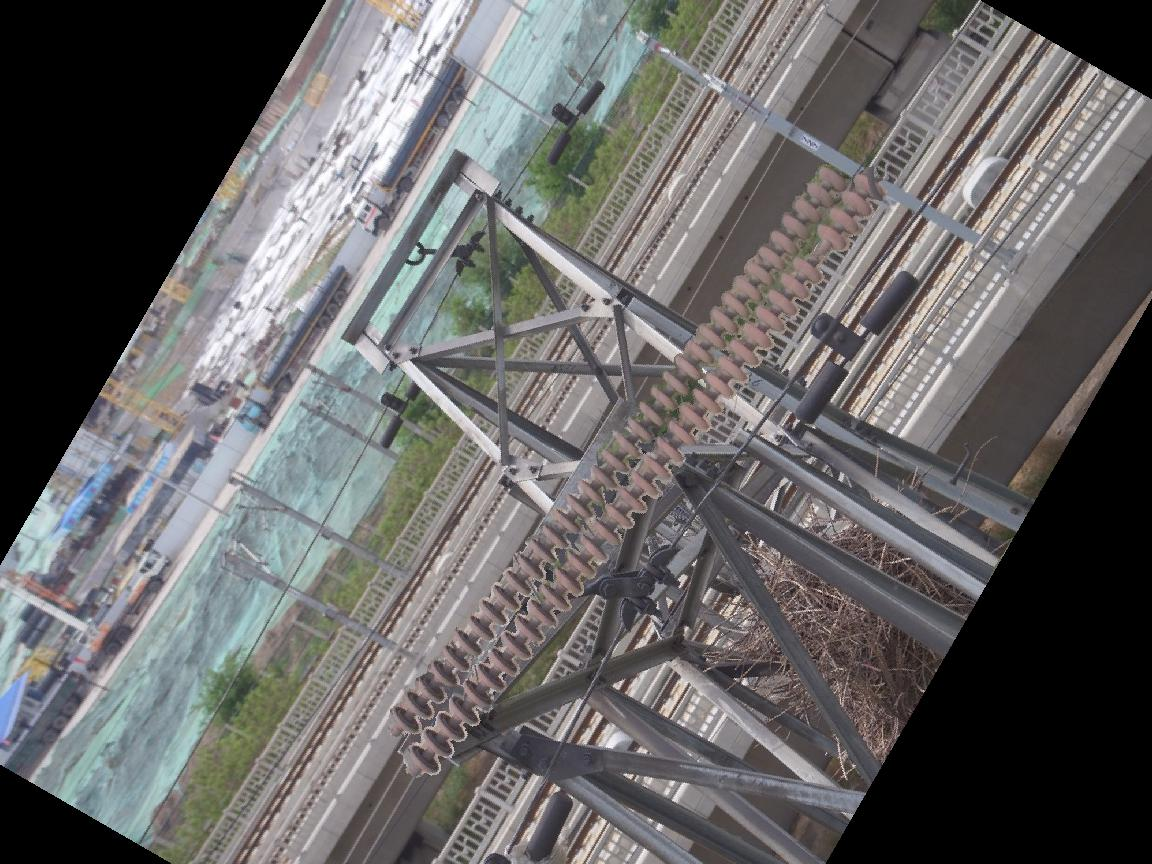insulator: (385, 164, 889, 782)
insulator_stringdrop: (789, 220, 850, 286)
